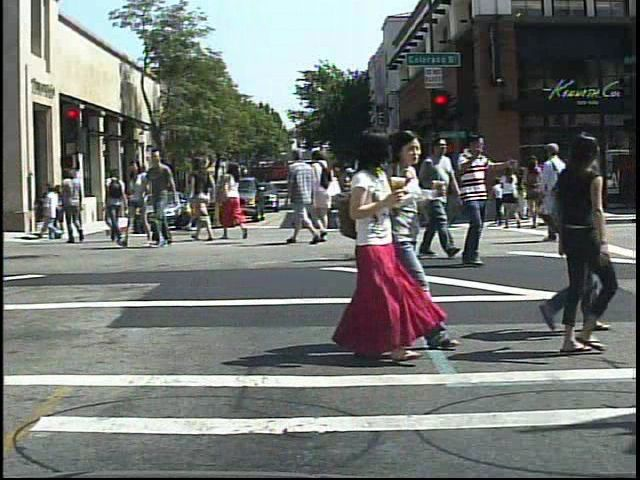person: (530, 128, 635, 364), (323, 124, 419, 371), (544, 133, 618, 337), (450, 127, 509, 275), (357, 134, 406, 265), (384, 126, 428, 262), (414, 135, 461, 261), (537, 133, 581, 249), (144, 147, 184, 253), (286, 142, 320, 245), (121, 159, 156, 252), (188, 152, 219, 248), (221, 154, 251, 245), (59, 166, 90, 245), (314, 148, 337, 246), (497, 160, 525, 231), (103, 165, 128, 243), (337, 161, 358, 229)
